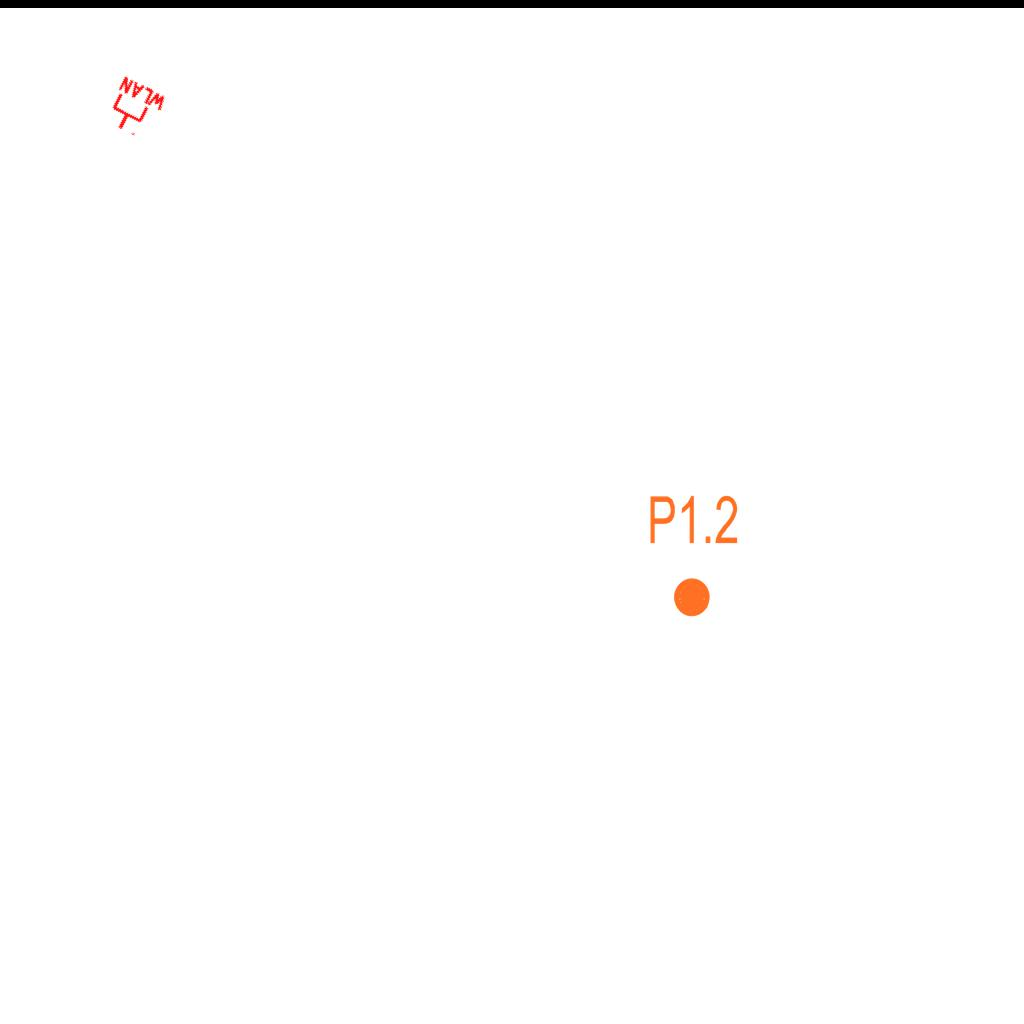Downlight_LED_Einbauleuchten_Flur: (647, 492, 740, 620)
WLAN: (100, 74, 170, 144)
